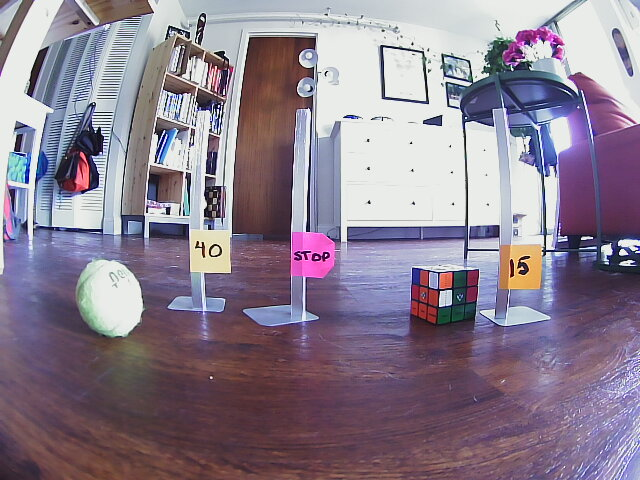15: (495, 243, 546, 293)
40: (186, 228, 233, 277)
ball: (74, 257, 145, 337)
cube: (409, 261, 483, 327)
stop: (289, 229, 336, 282)
